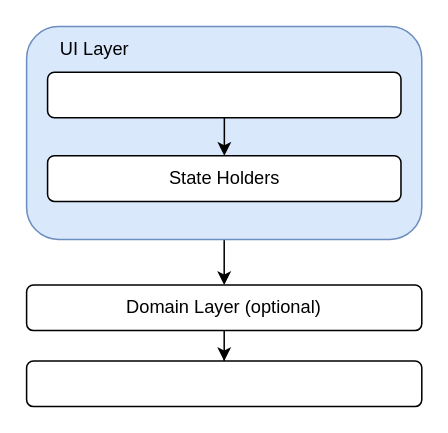
Some shapes in this 448 by 433 pixel diagram are drawn without their labels. The shapes that lost their labels are listed below. From the top down, each one's centre as x and y in pixels, then its label:
(x=223, y=94): UI Elements
(x=223, y=383): Data Layer
